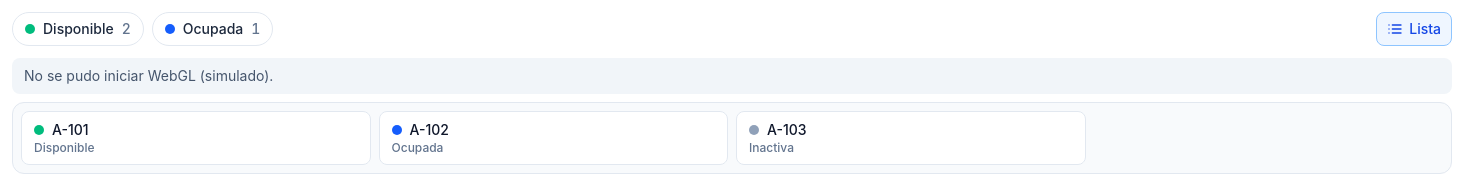
HouseMap › los filtros ocultan viviendas por estado
expect the text "A-102" is shown: met, box [392, 121, 449, 138]
Click the button "Ocupada 1" at (213, 29), box [152, 12, 273, 46]
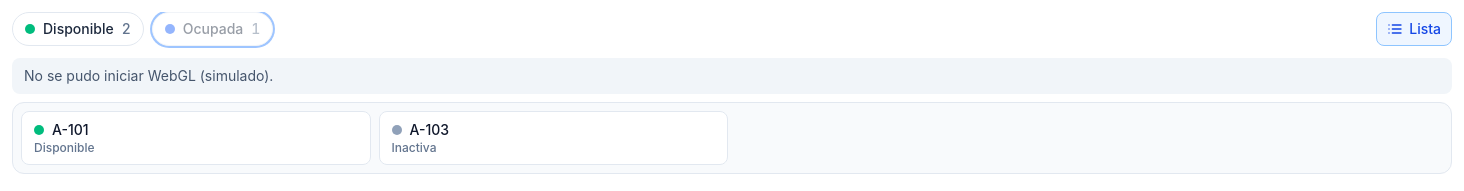
expect the button "A-102" is gone: met
